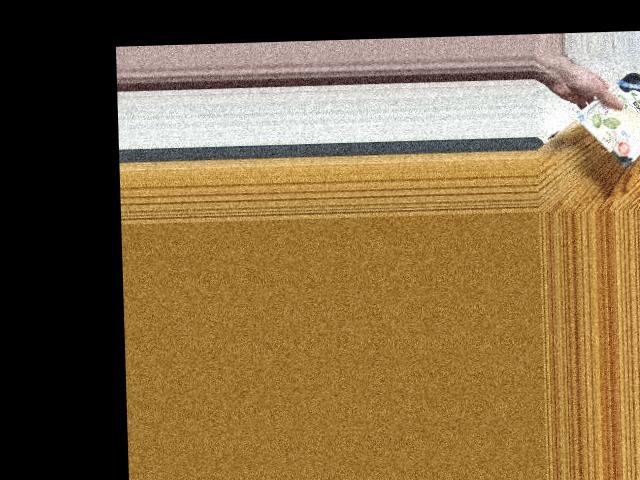cheese: (603, 76, 640, 158)
